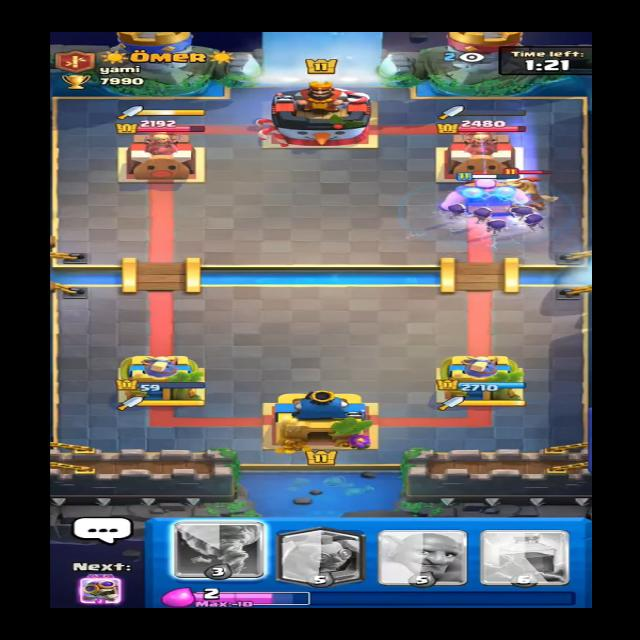Prince: (494, 165, 556, 216)
